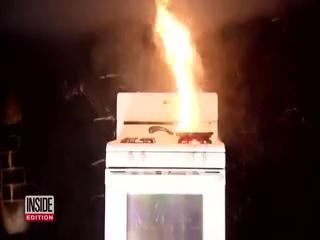Fire: (152, 0, 207, 135)
